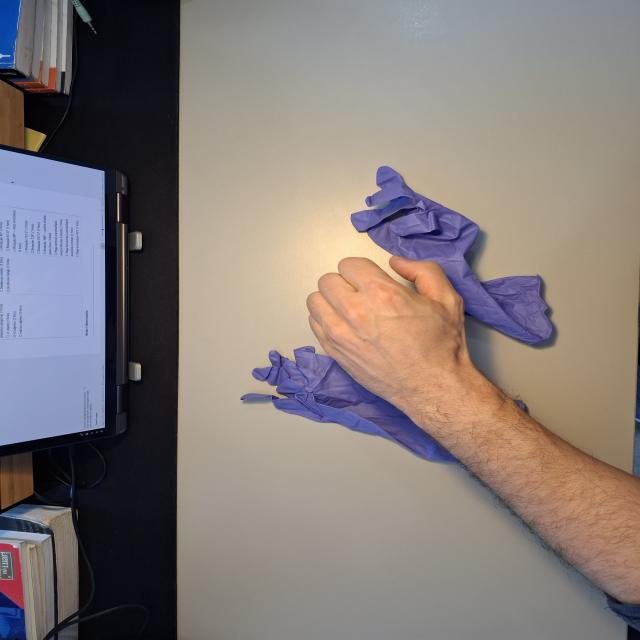glove_off: (303, 252, 486, 409)
